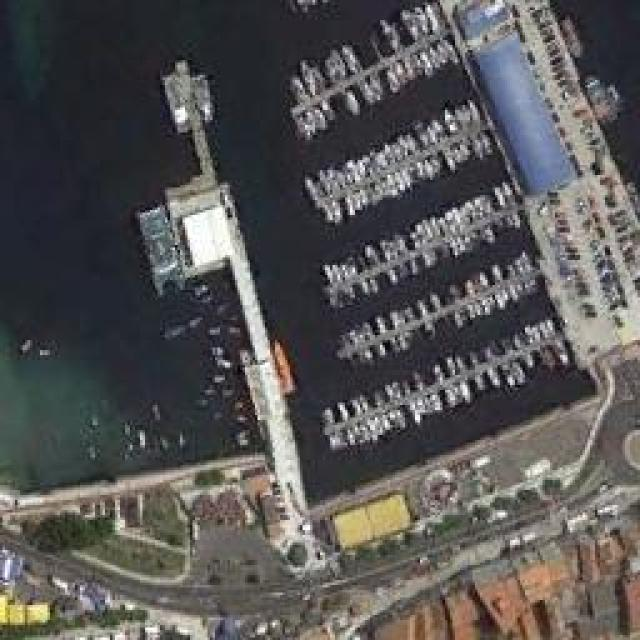Port: (278, 0, 638, 468)
